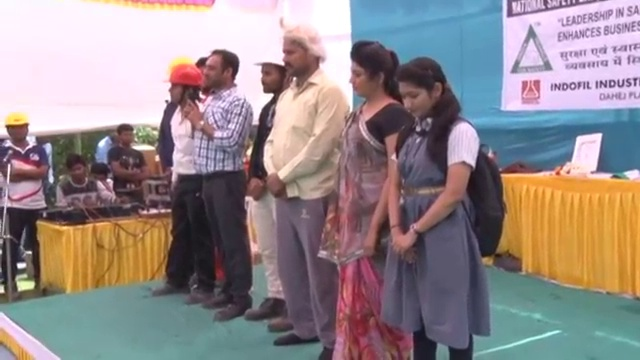helmet: (163, 62, 206, 88), (250, 42, 283, 69), (4, 113, 31, 131)
helmet_off: (393, 54, 454, 133), (346, 39, 397, 101), (274, 25, 323, 75), (200, 49, 238, 96), (65, 152, 88, 181), (89, 164, 110, 185), (117, 125, 134, 148), (105, 126, 120, 145)
helmet_on: (162, 64, 202, 109), (248, 46, 283, 97), (4, 112, 30, 148)
person: (385, 53, 507, 360), (264, 27, 350, 357), (334, 38, 411, 360), (186, 49, 253, 328), (150, 60, 208, 308), (244, 46, 290, 335), (0, 112, 48, 305), (56, 152, 129, 208), (110, 125, 151, 205), (94, 125, 120, 163)
